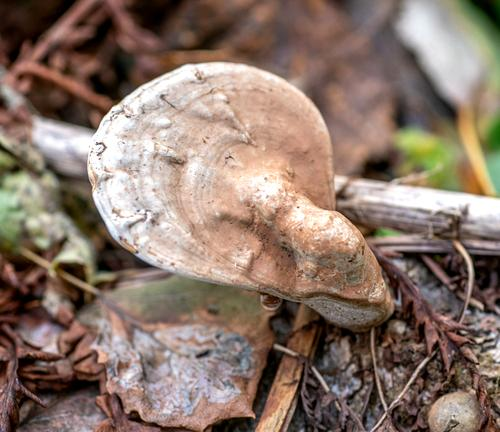Ganoderma - Fruit Body: (88, 61, 397, 331)
